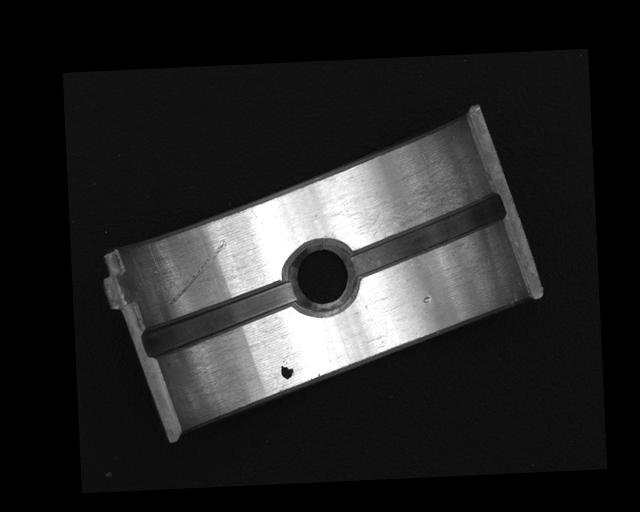blot: (279, 360, 294, 380)
bruise: (421, 295, 431, 304)
gap: (349, 194, 505, 277), (139, 281, 297, 358)
hole: (286, 240, 357, 318)
nick: (166, 238, 229, 304)
scratch: (351, 151, 483, 242)
